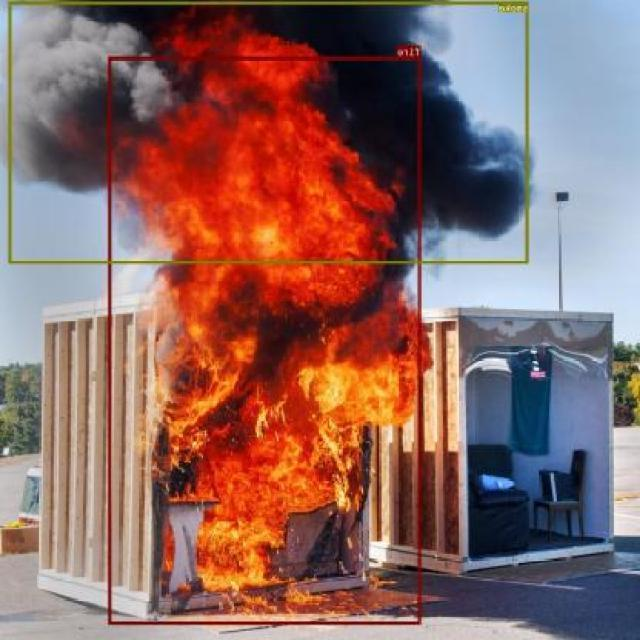Fire: (109, 56, 422, 624)
Smoke: (9, 2, 529, 264)
